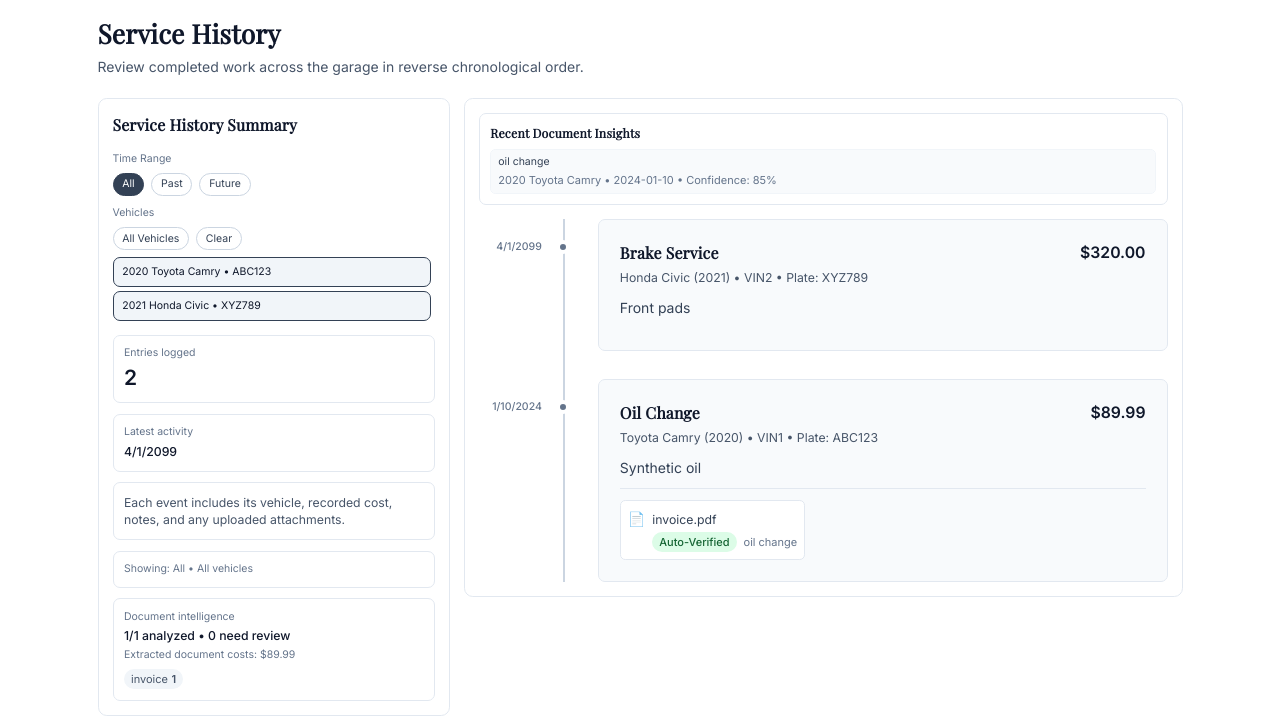
Test case: TimelineDashboard page › supports vehicle selection clear/all controls
Click the button "Clear": (219, 238) [196,227,242,250]
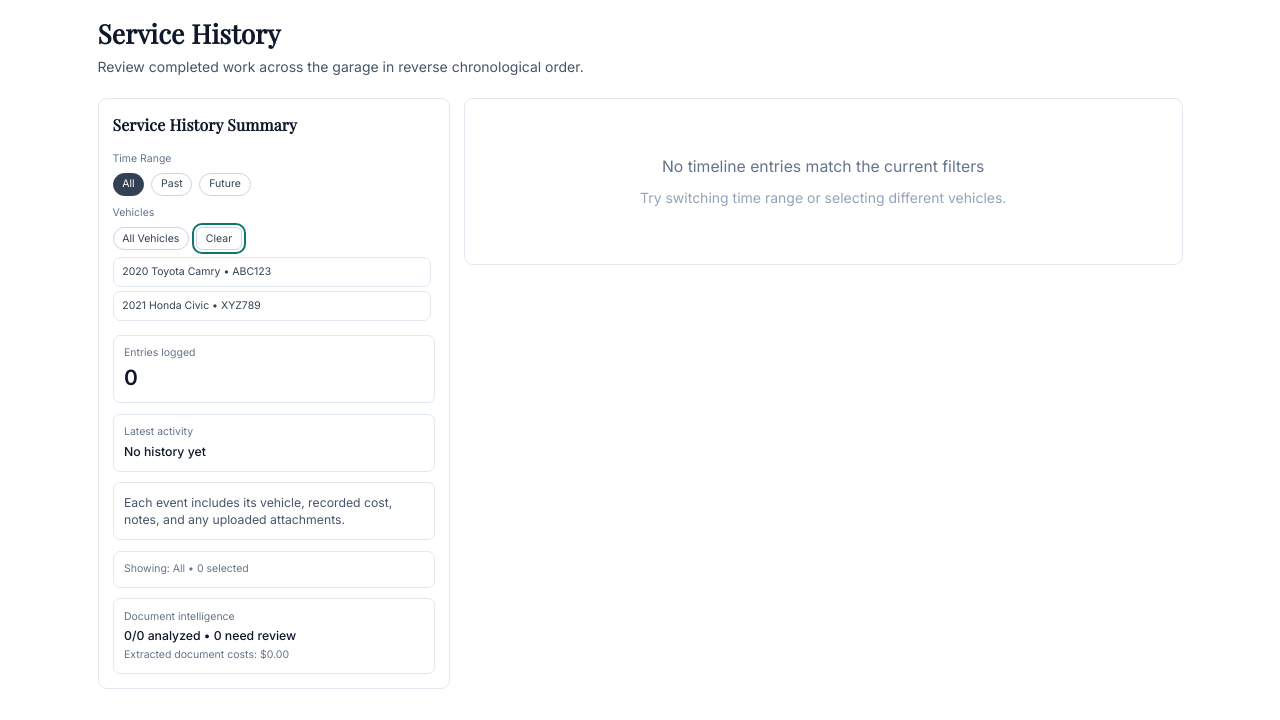
Expected: the text "No timeline entries match the current filters" is shown, [662,157,984,176]
Click the button "All Vehicles": (151, 238) [112,227,189,250]
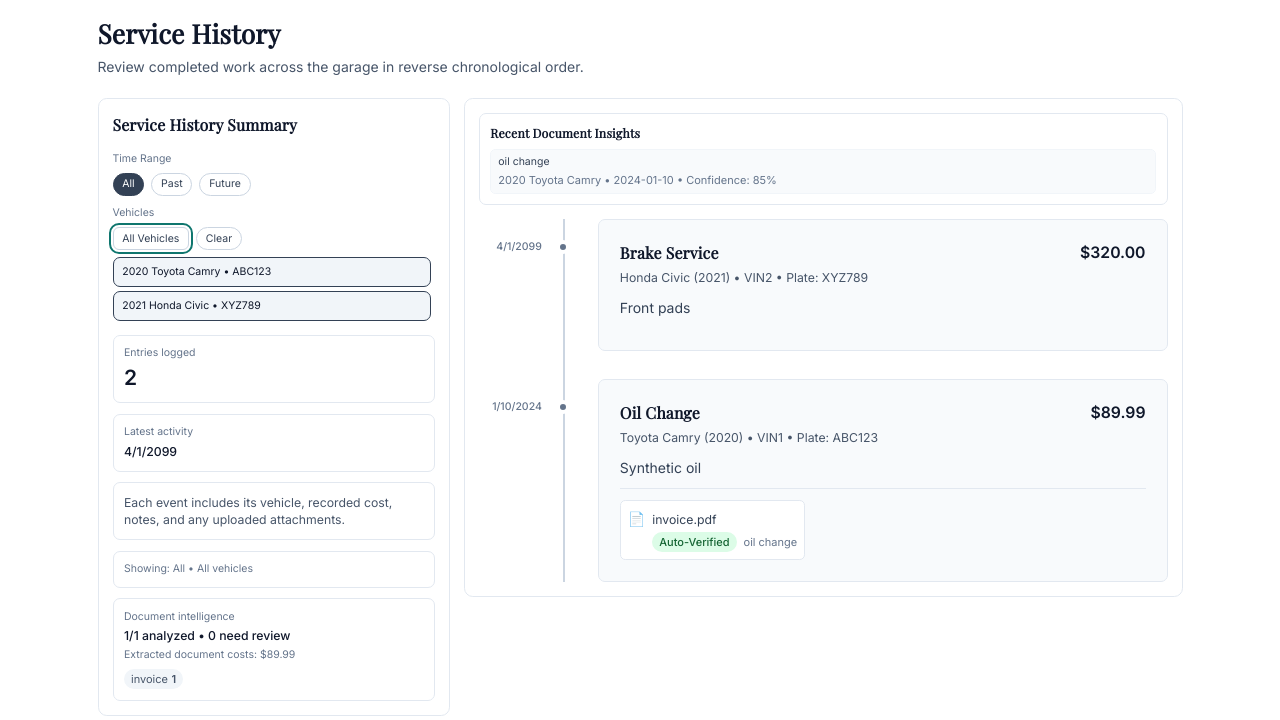
Expected: the text "oil change" below "Recent Document Insights" is shown, [498,155,550,168]
Expected: the heading "Brake Service" is shown, [620,242,718,263]
